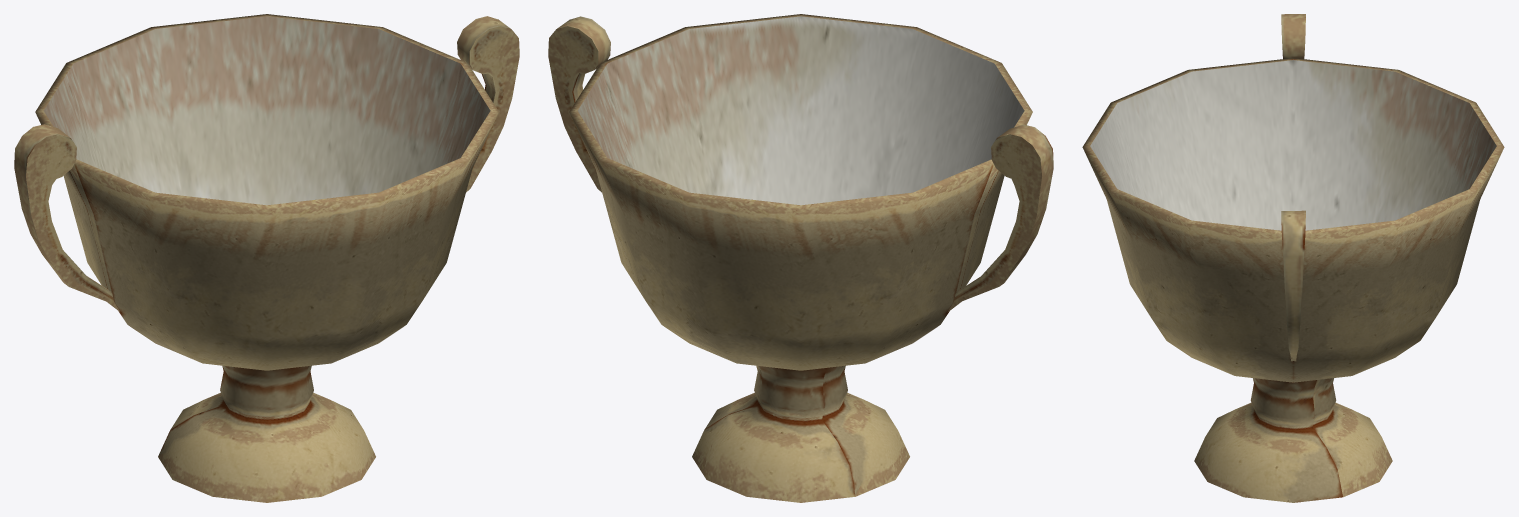
The model's file is copaGenerica4b.FBX.
The picture shows the model from 3 angles, left to right: view 1: azimuth 30°, elevation 25°; view 2: azimuth 150°, elevation 25°; view 3: azimuth 270°, elevation 25°; orthographic projection. The views are drawn at different scales.
Parts seen in each view (by area): view 1: copaGenerica4b; view 2: copaGenerica4b; view 3: copaGenerica4b.
Part boxes in pixels (<box>): copaGenerica4b: <box>14,14,519,502</box>; copaGenerica4b: <box>548,14,1053,502</box>; copaGenerica4b: <box>1082,14,1504,502</box>.
Bounding box in the file's own units: 104 × 76.38 × 84.4.
